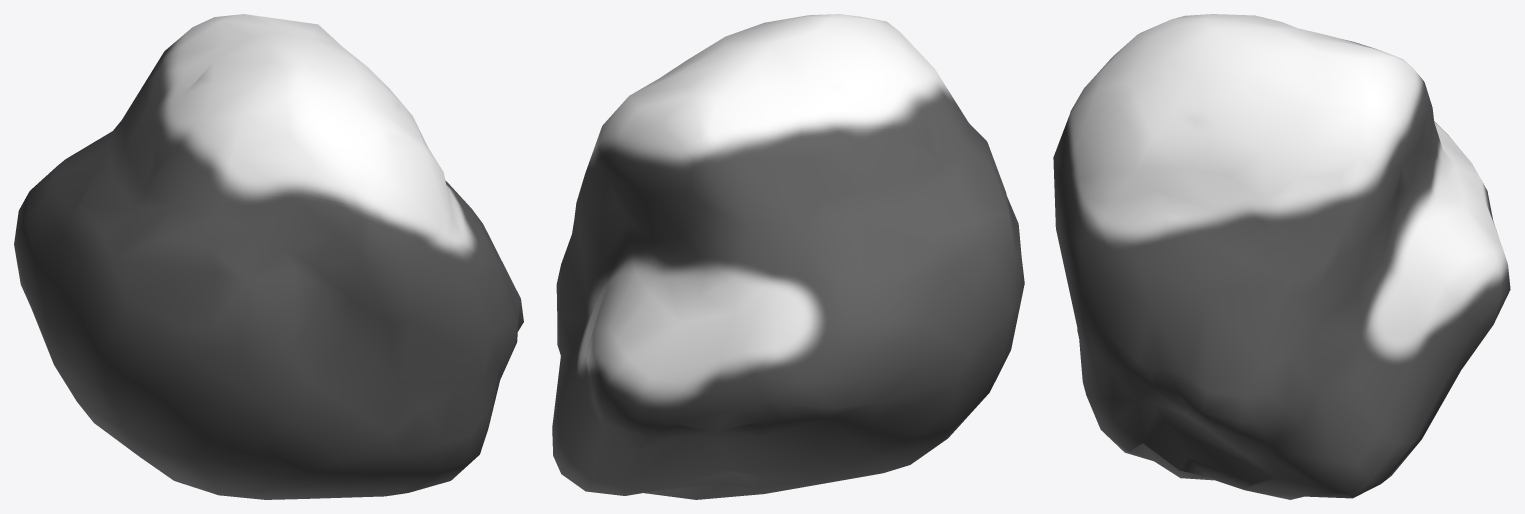
Rendered from Rock_3.fbx.
The picture shows the model from 3 angles, left to right: view 1: azimuth 30°, elevation 25°; view 2: azimuth 150°, elevation 25°; view 3: azimuth 270°, elevation 25°; orthographic projection. The views are drawn at different scales.
Parts seen in each view (by area): view 1: rock_3; view 2: rock_3; view 3: rock_3.
Part boxes in pixels (x1=…): rock_3: x1=14, y1=14, x2=523, y2=499; rock_3: x1=552, y1=14, x2=1024, y2=499; rock_3: x1=1053, y1=14, x2=1510, y2=499.
Size of the model in its own units: 124 by 124 by 122.
